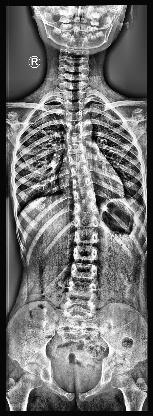Vertebrae: (65, 298, 93, 318), (68, 280, 98, 296), (72, 262, 98, 280), (72, 245, 100, 261), (74, 228, 98, 244), (74, 202, 98, 216), (75, 216, 99, 228), (65, 108, 83, 122), (68, 154, 88, 166), (72, 190, 94, 200), (66, 144, 86, 154), (70, 166, 90, 176), (72, 178, 92, 188), (66, 122, 82, 132), (67, 134, 83, 142)
